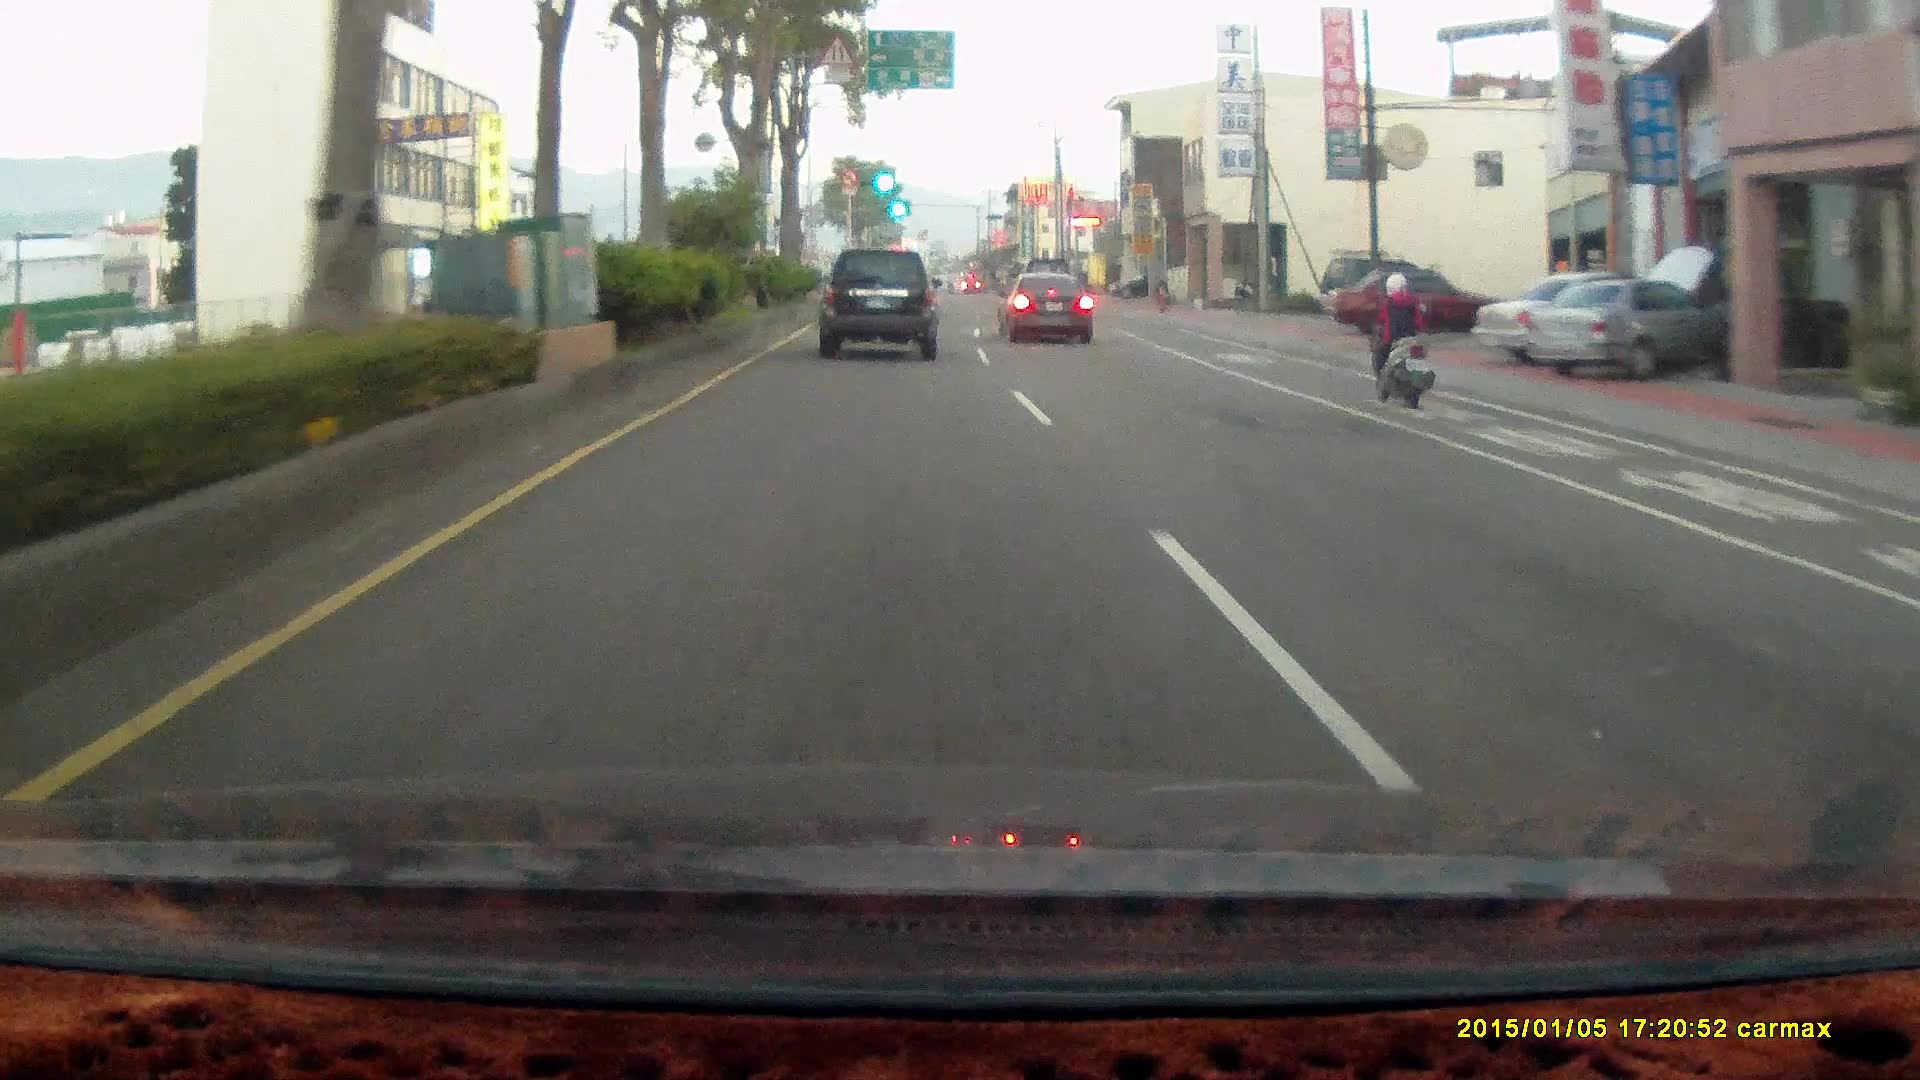rider: (1352, 259, 1444, 420), (1362, 273, 1434, 411)
vehicle: (1472, 276, 1691, 370), (1527, 280, 1724, 381), (1526, 280, 1722, 380), (815, 251, 945, 370), (817, 247, 942, 359), (1328, 272, 1501, 341), (1331, 270, 1503, 337), (997, 273, 1096, 346), (995, 269, 1092, 343), (1107, 276, 1163, 300)
